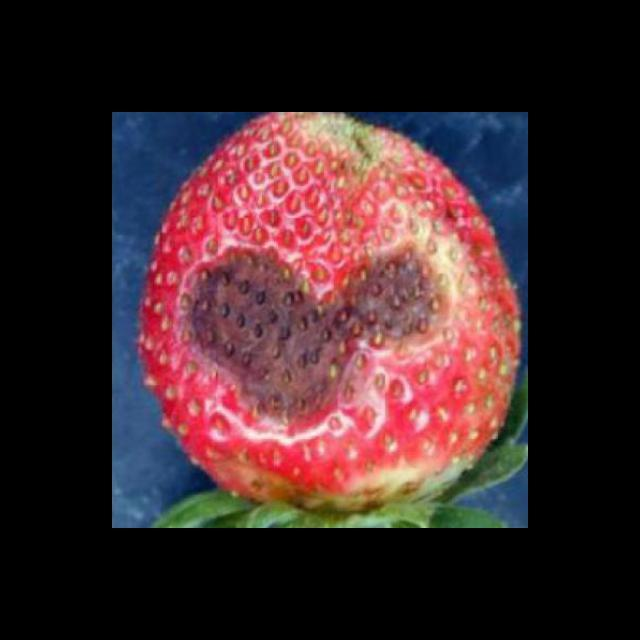Anthracnose Fruit Rot: (181, 243, 459, 432)
